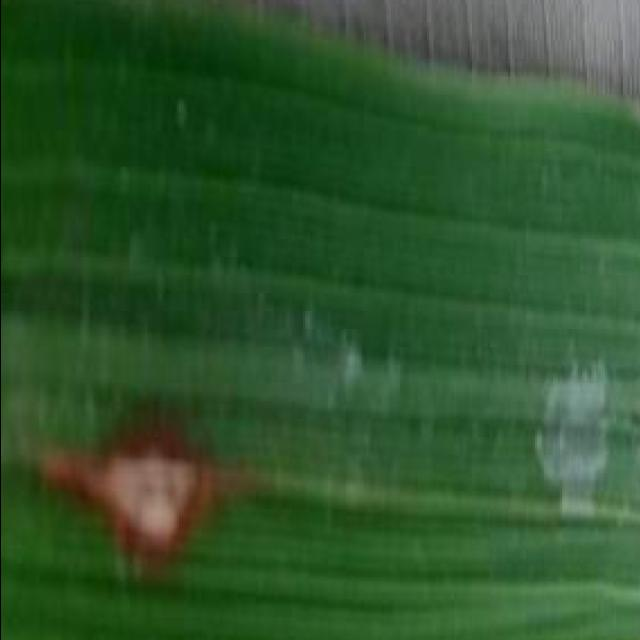Leaf_Blast: (51, 383, 278, 593)
